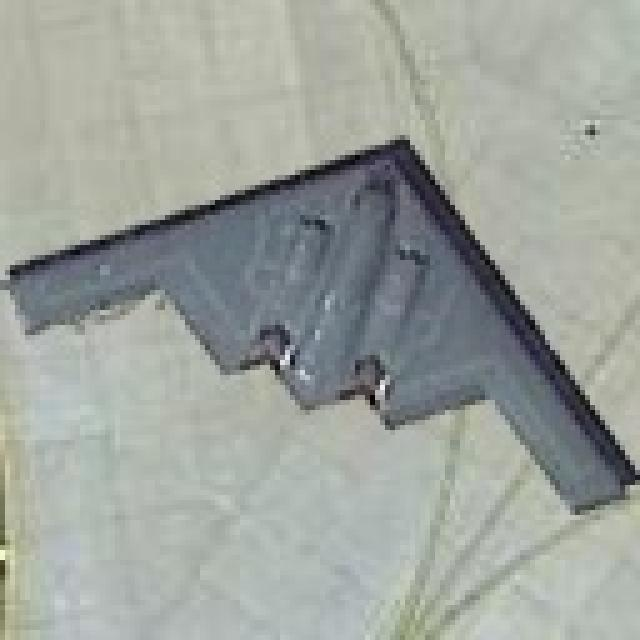B-2_TopDown: (0, 130, 635, 515)
